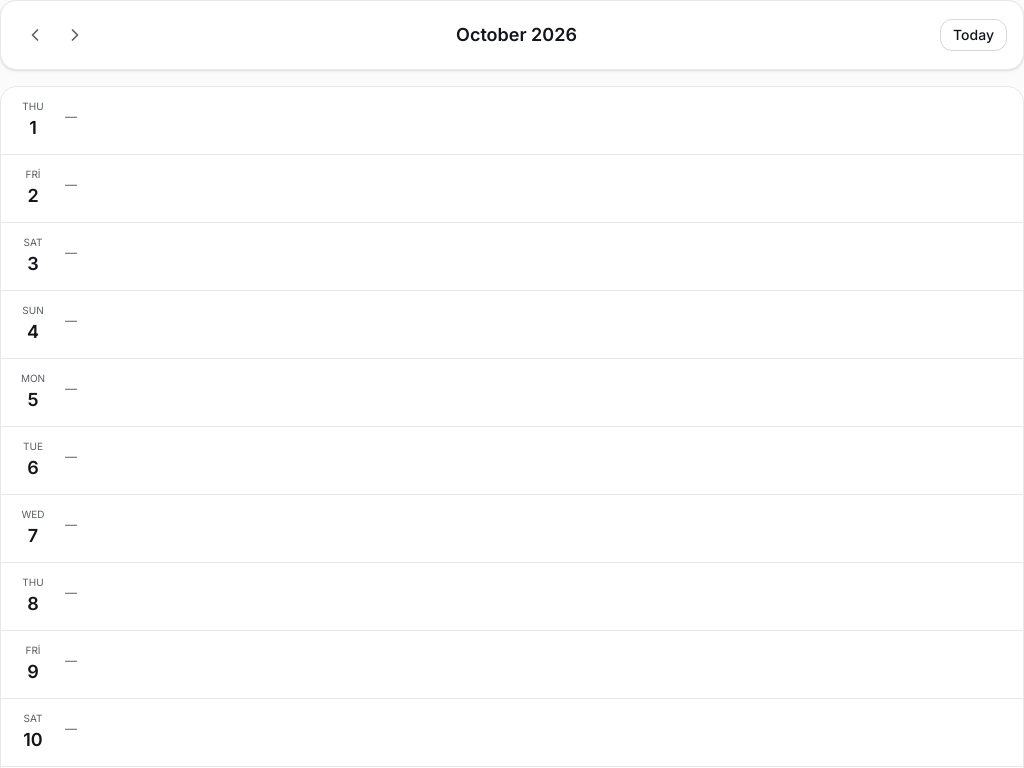
Test: CalendarPage — embedded as the surface Takvim view › still edits — a day opens the dialog that creates a task on it
Click the button "Thu 1" at (33, 120), box [13,99,53,142]
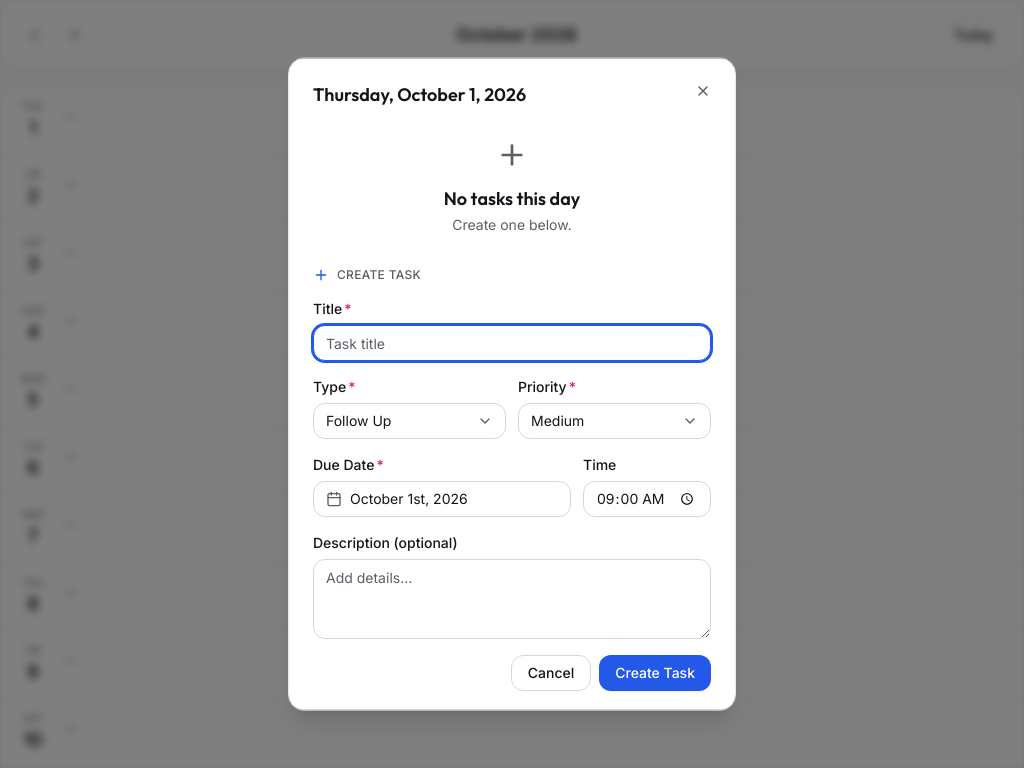
expect the button "Create Task" is shown: met, box [599,655,711,691]
